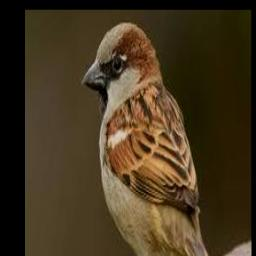Sparrow: (81, 21, 226, 256)
